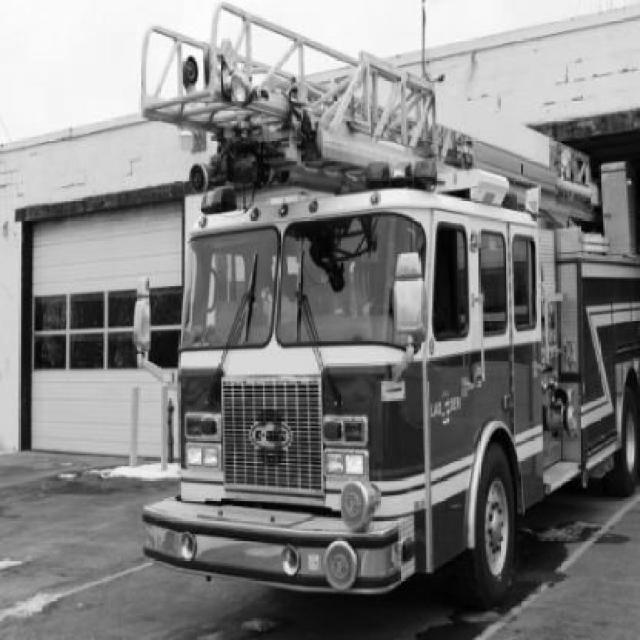Fire Truck: (130, 4, 640, 606)
